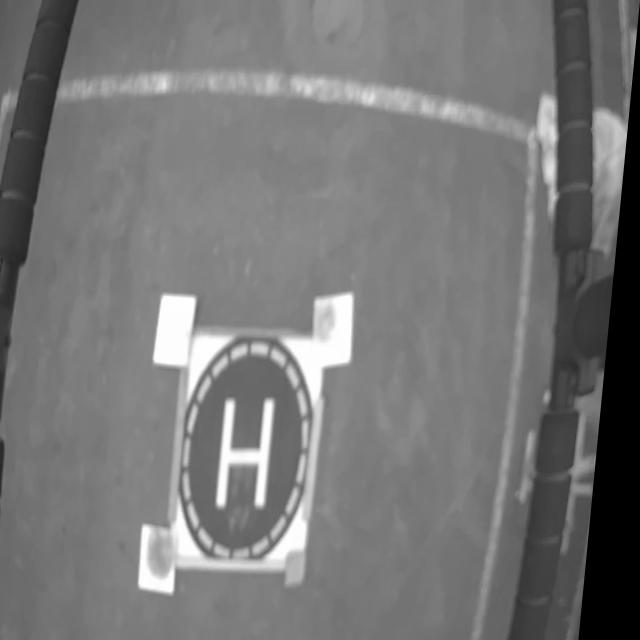Helipad: (226, 398, 284, 509)
